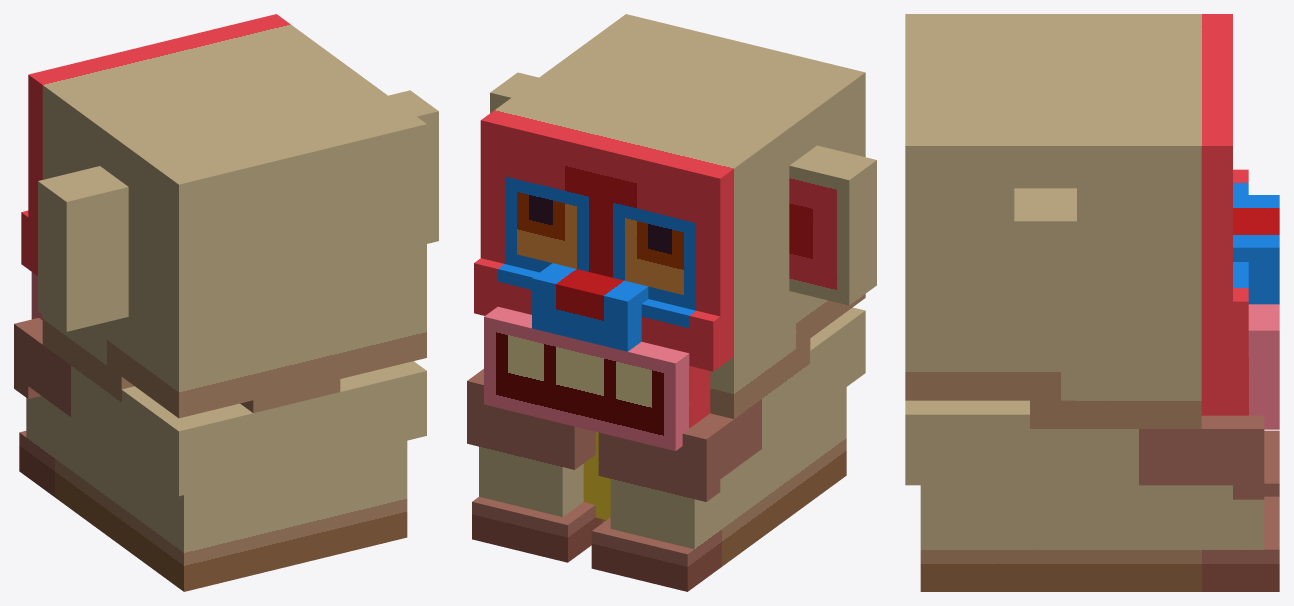
Rendered from Decoration_2x2_TotemMonkey.gltf.
3 renders of one model, left to right at view 1: azimuth 30°, elevation 25°; view 2: azimuth 150°, elevation 25°; view 3: azimuth 270°, elevation 25°, orthographic. The views are drawn at different scales.
Visible parts, largest first — view 1: Monkey_01-Local; view 2: Monkey_01-Local; view 3: Monkey_01-Local.
Boxes of the visible parts, x1,y1,x2,y2 form: Monkey_01-Local: [14, 14, 438, 591]; Monkey_01-Local: [467, 14, 876, 591]; Monkey_01-Local: [905, 14, 1279, 591].
Size of the model in its own units: 30 by 32 by 24.
Materials: 1 (1 with a texture image).
